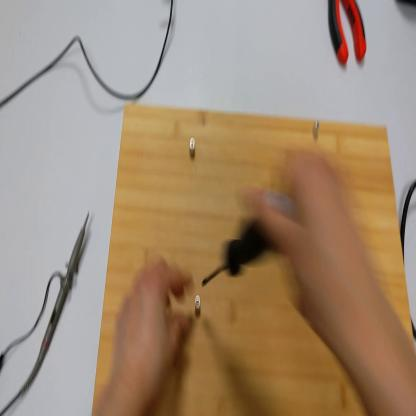hand: (242, 151, 381, 347), (110, 259, 192, 404)
oscilloscope probe tip: (19, 209, 91, 399)
pliers: (327, 1, 368, 72)
screwdriver-: (199, 184, 298, 288)
working area: (97, 96, 416, 416)
